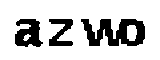a: (10, 15, 42, 50)
o: (123, 15, 149, 50)
w: (80, 14, 123, 51)
z: (47, 16, 76, 49)
